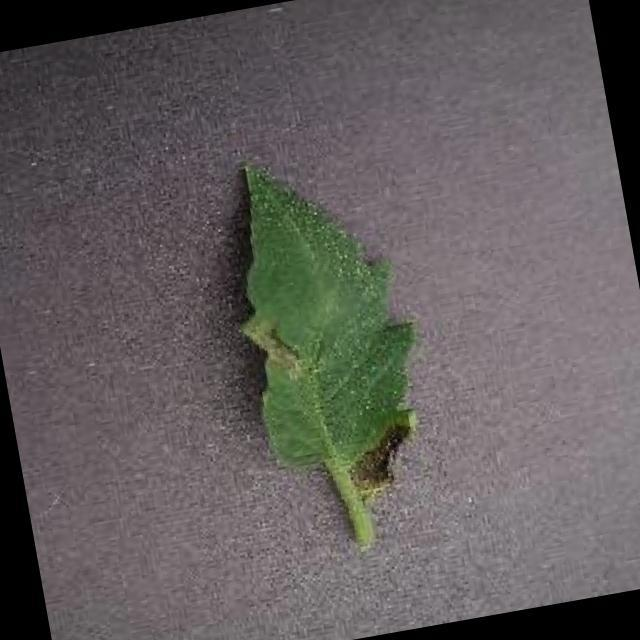Tomato late blight leaf: (208, 134, 449, 516)
